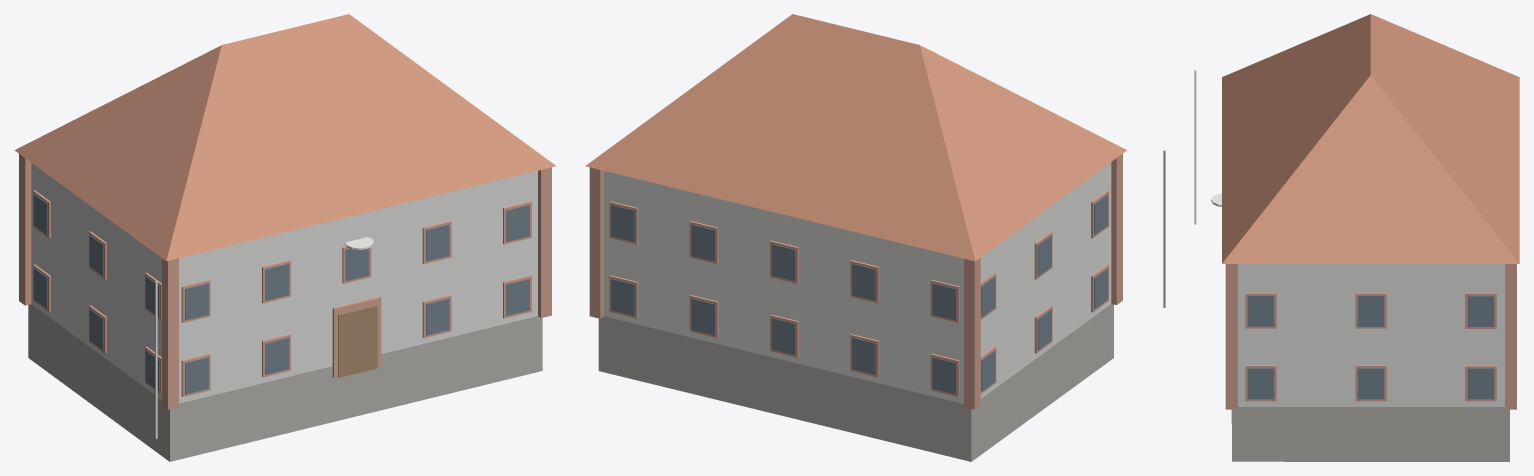
Rendered from townhall-ehemaliges-rathaus.glb.
3 renders of one model, left to right at view 1: azimuth 30°, elevation 25°; view 2: azimuth 150°, elevation 25°; view 3: azimuth 270°, elevation 25°, orthographic. The views are drawn at different scales.
Visible parts, largest first — view 1: building; view 2: building; view 3: building.
Boxes of the visible parts, bbox=[...] form: building: bbox=[14, 14, 556, 461]; building: bbox=[585, 14, 1165, 461]; building: bbox=[1194, 14, 1519, 461].
Bounding box in the file's own units: 19.36 × 14.94 × 13.42.
